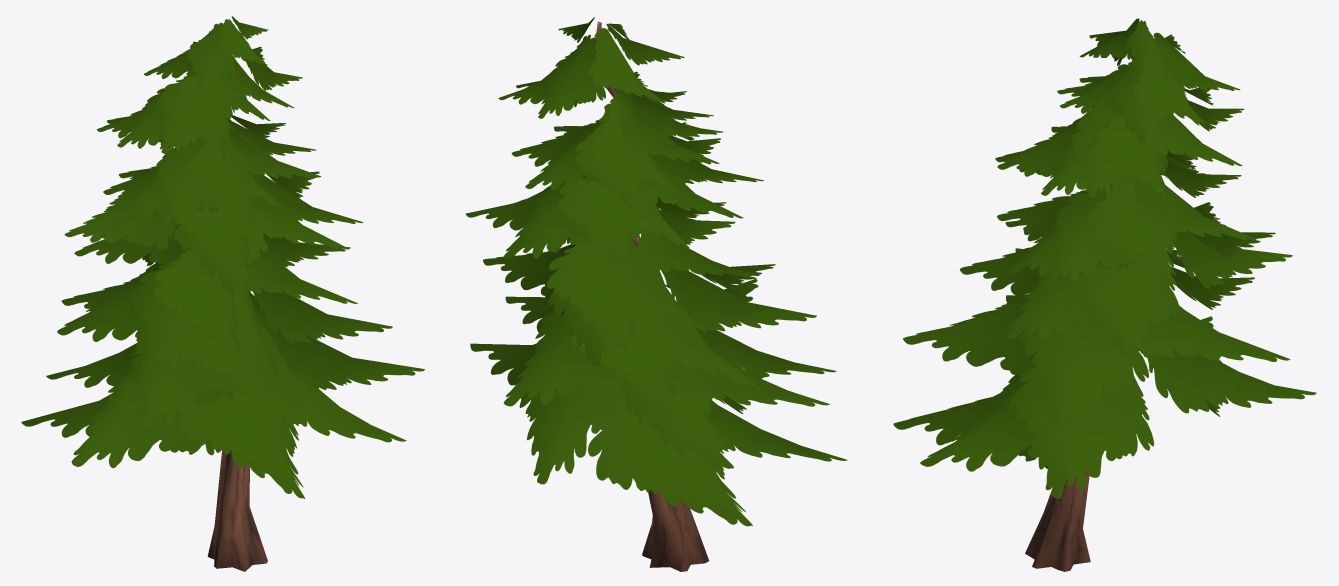
File: pine-1.glb
3 renders of one model, left to right at view 1: azimuth 30°, elevation 25°; view 2: azimuth 150°, elevation 25°; view 3: azimuth 270°, elevation 25°, orthographic. The views are drawn at different scales.
Visible parts, largest first — view 1: Pine_5; view 2: Pine_5; view 3: Pine_5.
Part boxes in pixels (x1,y1,x2,y2): Pine_5: (21,16,424,571); Pine_5: (466,17,847,571); Pine_5: (893,18,1316,571).
Bounding box in the file's own units: 6.42 × 8.72 × 6.22.
2 materials, 2 textured.
